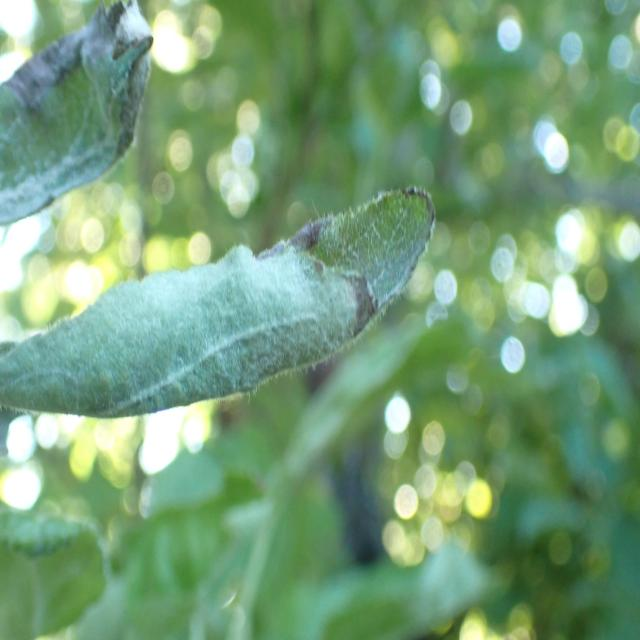Powdery_mildew: (0, 175, 450, 464), (0, 0, 155, 286)
